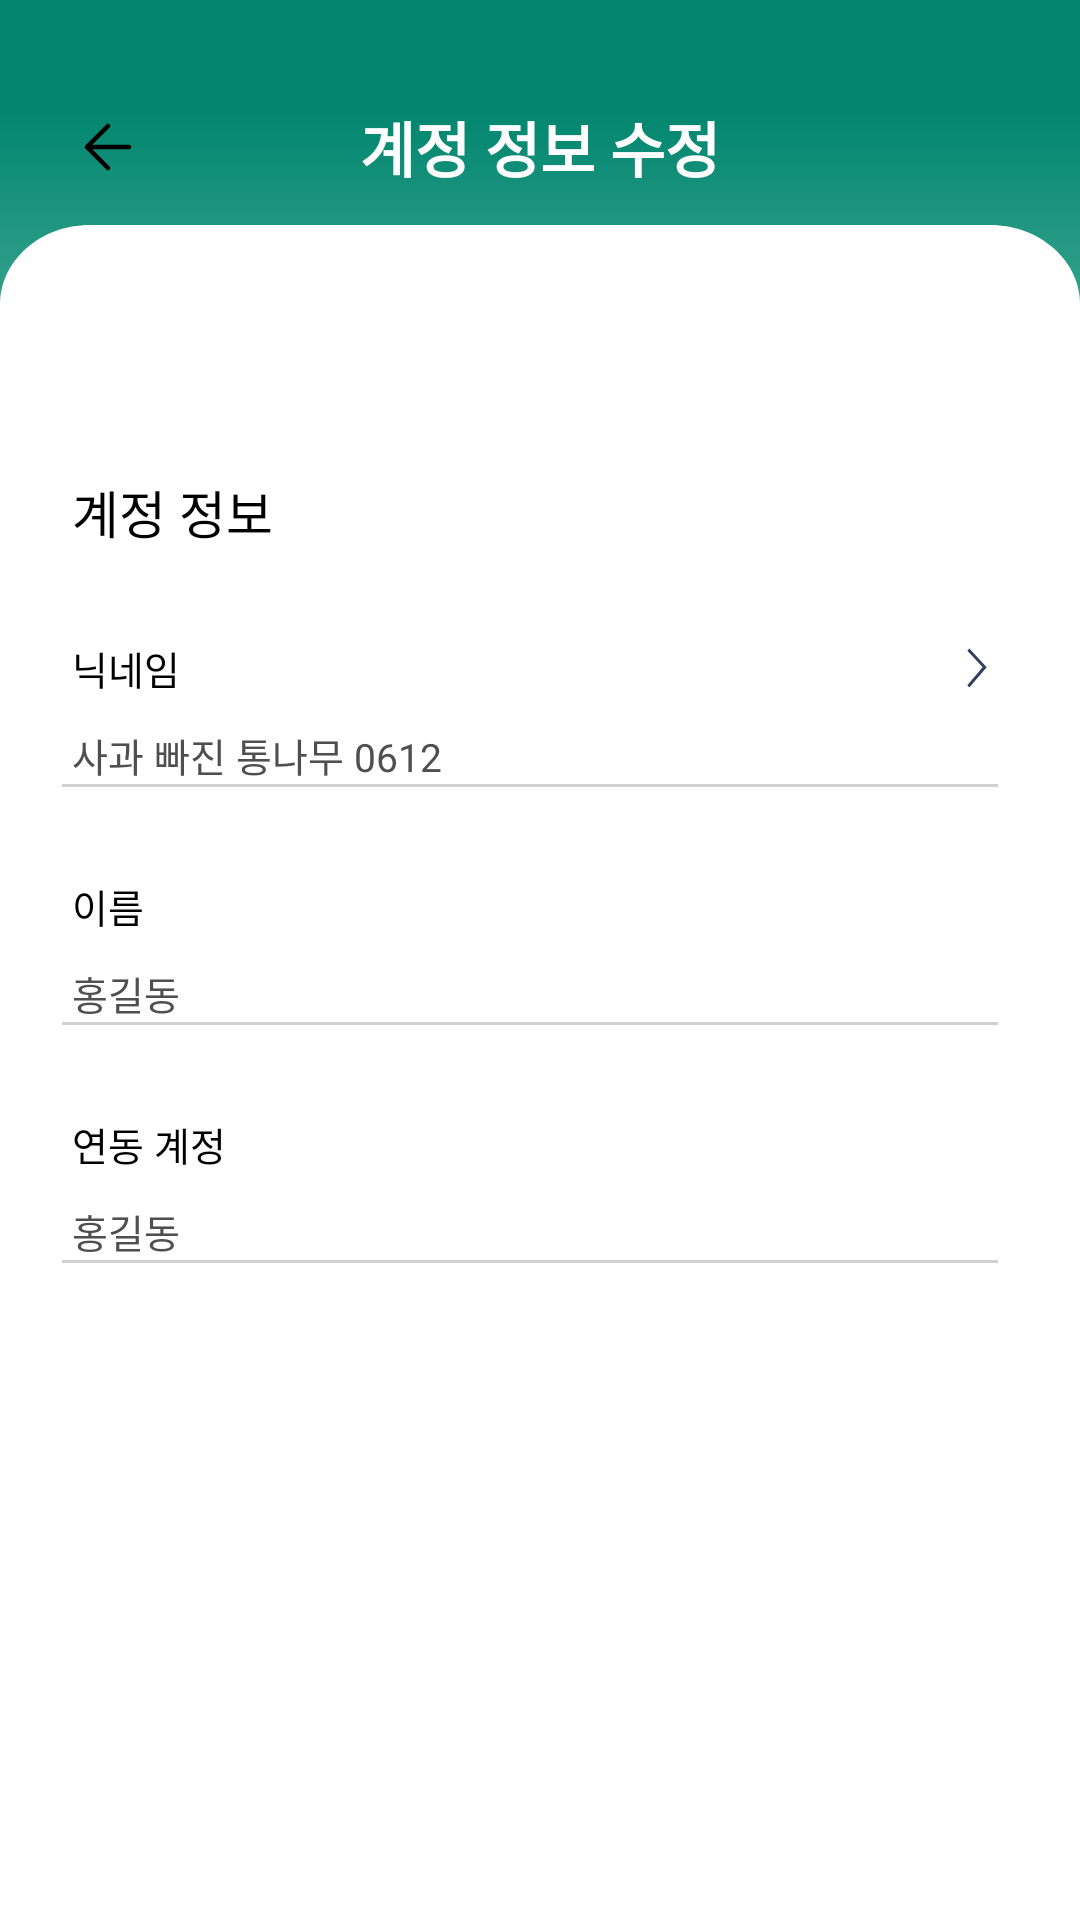

Screen size 1080px×1920px. Icon name, then its box in pixels as Rect(x1, y1, x2, y2):
arrow left: Rect(85, 123, 131, 171)
